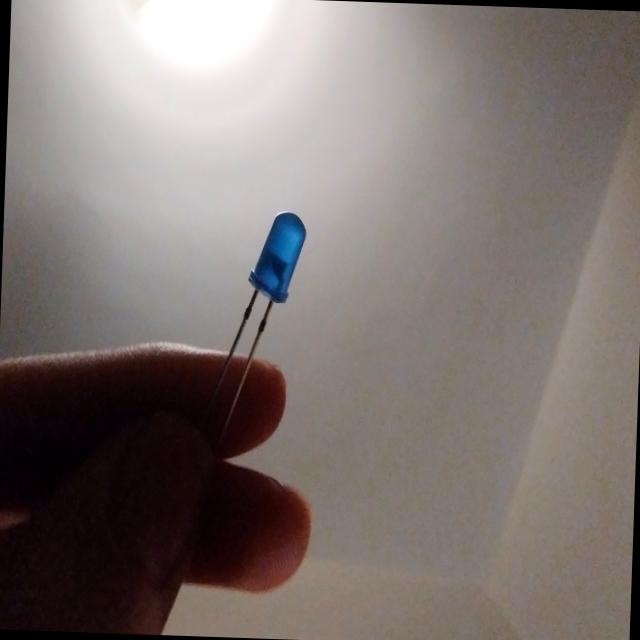blue_led: (217, 195, 309, 418)
